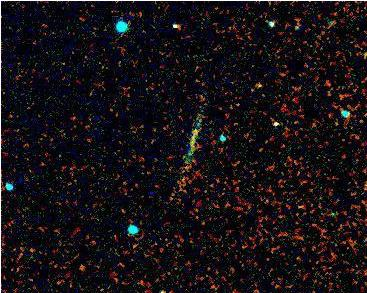star: (66, 252, 96, 282)
